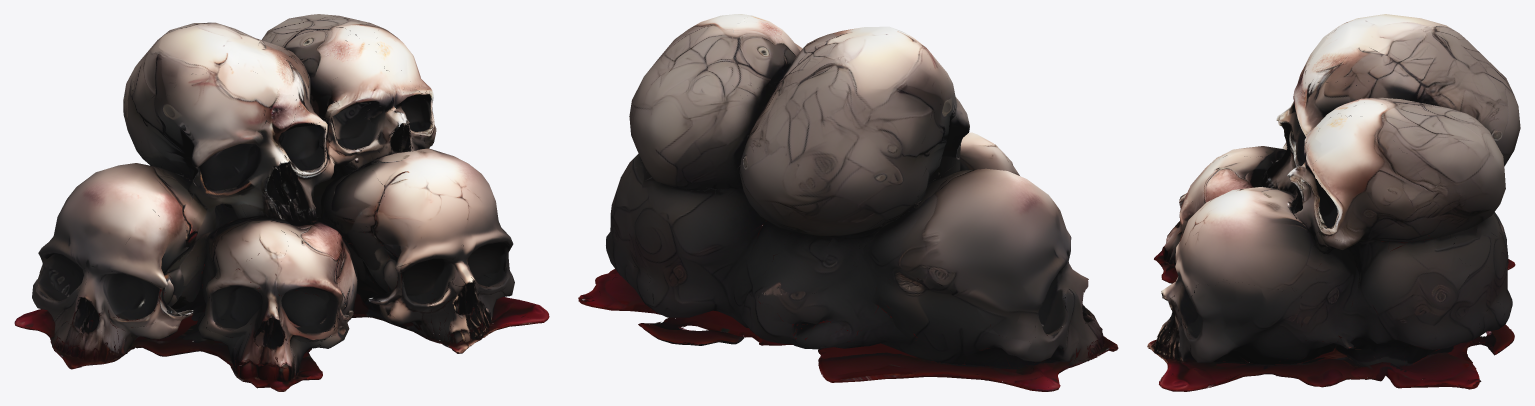
File: cala.glb
3 renders of one model, left to right at view 1: azimuth 30°, elevation 25°; view 2: azimuth 150°, elevation 25°; view 3: azimuth 270°, elevation 25°, orthographic. The views are drawn at different scales.
Visible parts, largest first — view 1: model; view 2: model; view 3: model.
Boxes of the visible parts, x1,y1,x2,y2 form: model: [14, 14, 549, 391]; model: [578, 14, 1118, 391]; model: [1147, 14, 1520, 391].
Size of the model in its own units: 1.73 by 1.05 by 1.34.
1 material, 1 textured.
